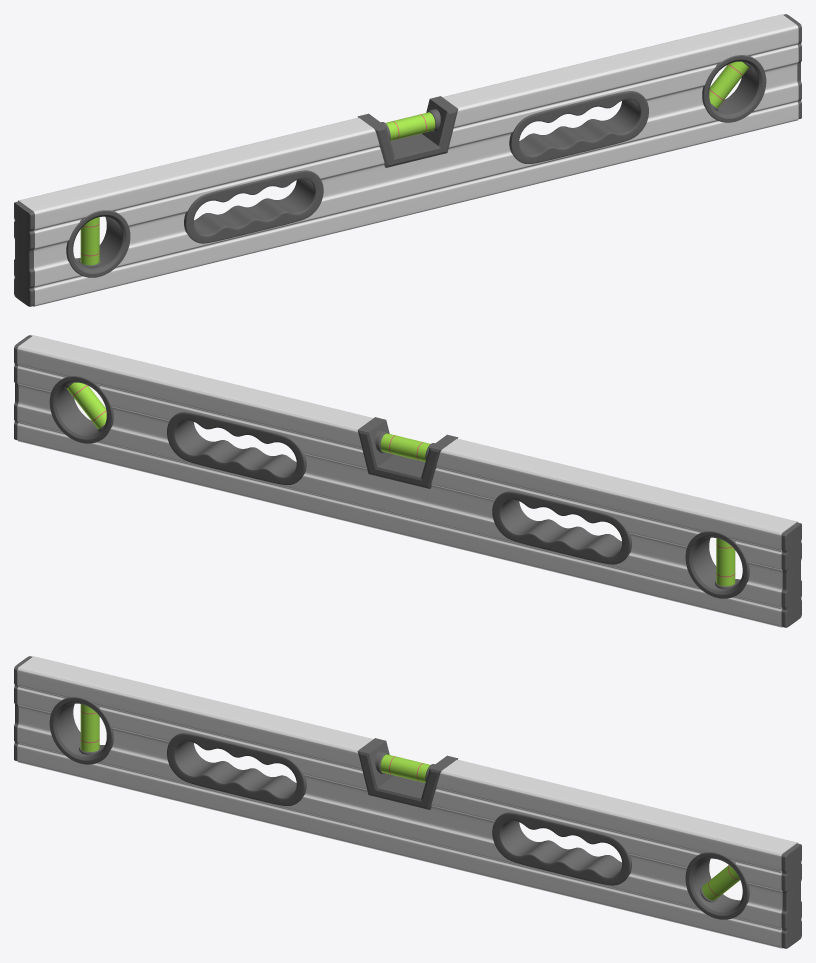
File: spirit-level.fbx
The picture shows the model from 3 angles, top to bottom: view 1: azimuth 30°, elevation 25°; view 2: azimuth 150°, elevation 25°; view 3: azimuth 330°, elevation 25°; orthographic projection.
Visible parts, largest first — view 1: vodovaha; view 2: vodovaha; view 3: vodovaha.
Boxes of the visible parts, x1=… form: vodovaha: x1=14, y1=14, x2=801, y2=306; vodovaha: x1=14, y1=335, x2=801, y2=627; vodovaha: x1=14, y1=656, x2=801, y2=948.
Bounding box in the file's own units: 4280 × 505 × 186.
